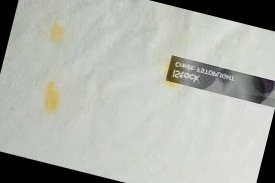mustard: (35, 79, 66, 117), (40, 72, 70, 109), (48, 23, 68, 43), (164, 80, 177, 91)
